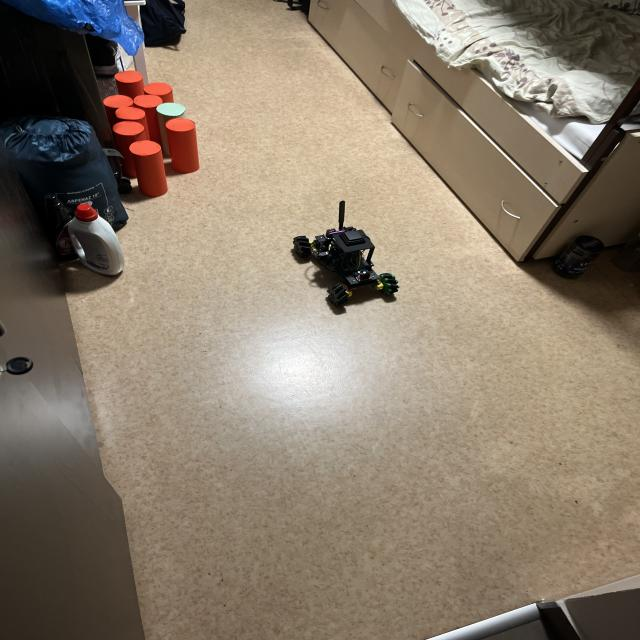robot: (293, 201, 399, 306)
